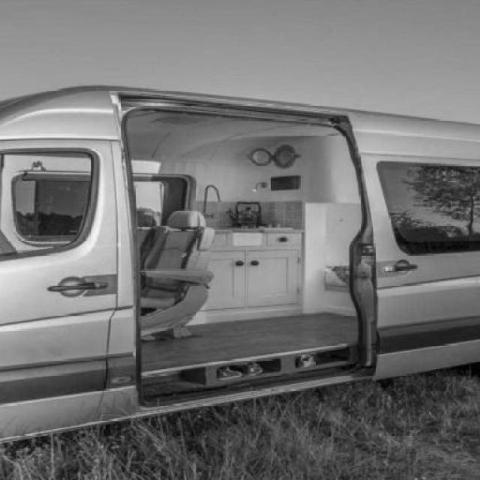van: (0, 90, 480, 437)
